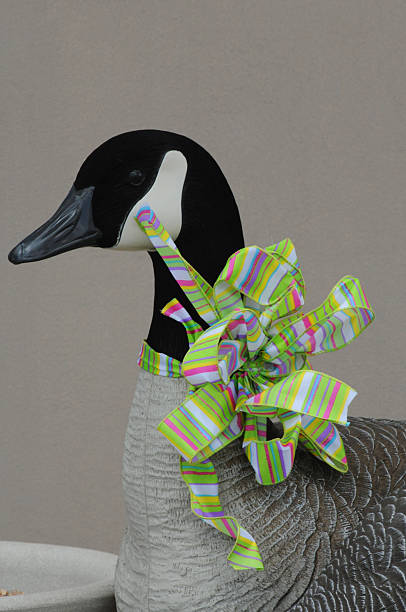goose: (5, 126, 406, 612)
